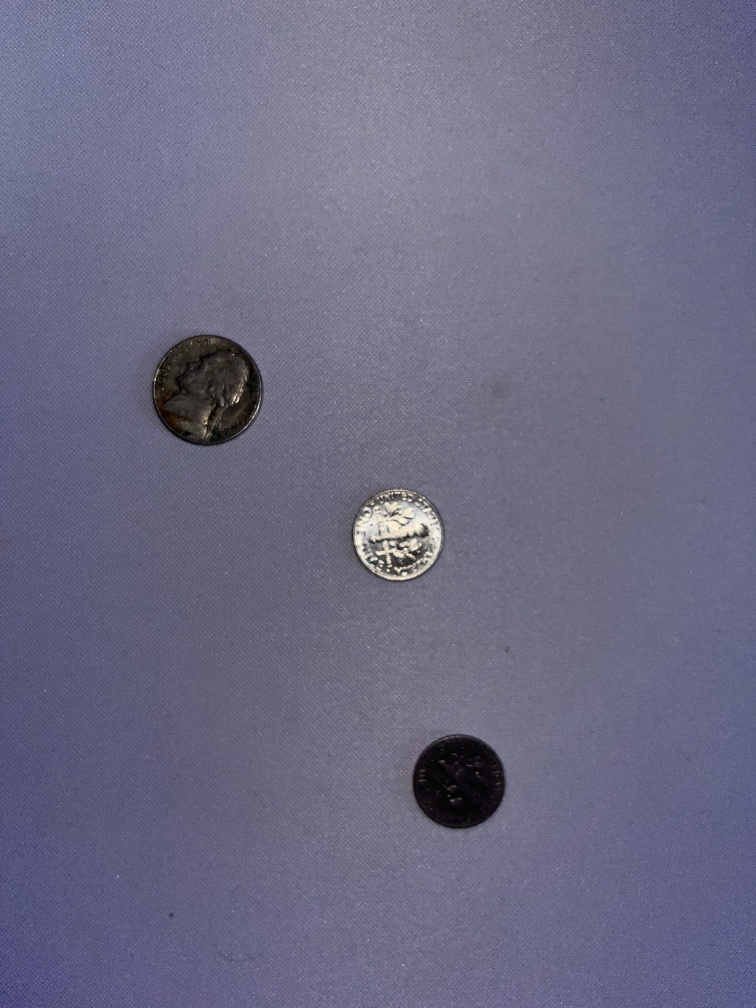dime: (406, 729, 514, 841), (346, 484, 449, 589)
nickel: (147, 329, 269, 456)
